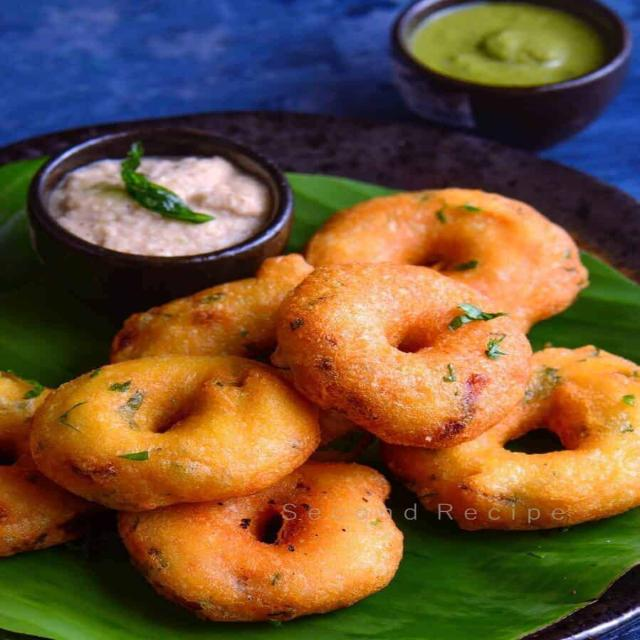MEDU VADA: (21, 353, 333, 513), (282, 260, 535, 454), (399, 342, 639, 535), (290, 181, 585, 313), (128, 475, 401, 614), (112, 264, 334, 363), (0, 371, 89, 556)
